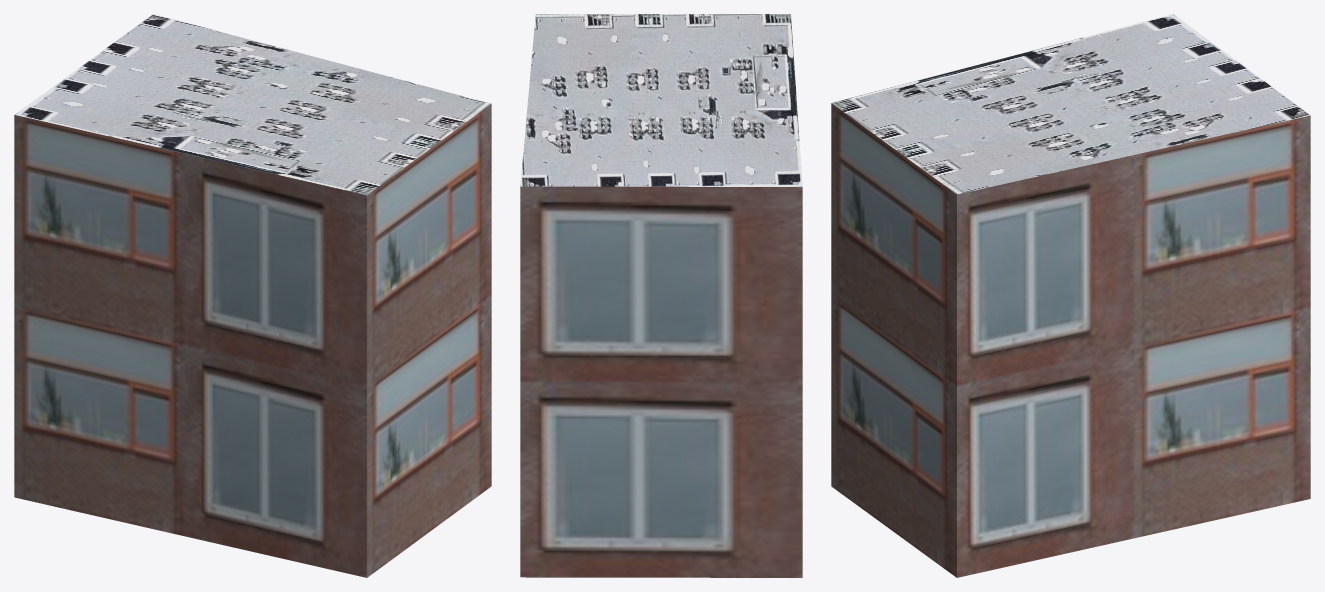
Rendered from ResTex__254.fbx.
The picture shows the model from 3 angles, left to right: view 1: azimuth 30°, elevation 25°; view 2: azimuth 150°, elevation 25°; view 3: azimuth 270°, elevation 25°; orthographic projection. The views are drawn at different scales.
Parts seen in each view (by area): view 1: CityEngineMaterial_19_m, CityEngineMaterial_15_m; view 2: CityEngineMaterial_19_m, CityEngineMaterial_15_m; view 3: CityEngineMaterial_19_m, CityEngineMaterial_15_m.
Part boxes in pixels (left/top/right/bottom): CityEngineMaterial_19_m: left=14, top=104, right=491, bottom=577; CityEngineMaterial_15_m: left=14, top=14, right=491, bottom=195; CityEngineMaterial_19_m: left=520, top=186, right=802, bottom=577; CityEngineMaterial_15_m: left=520, top=14, right=802, bottom=186; CityEngineMaterial_19_m: left=831, top=103, right=1310, bottom=577; CityEngineMaterial_15_m: left=832, top=14, right=1310, bottom=194.
Bounding box in the file's own units: 6.06 × 6 × 6.8.
2 materials, 2 textured.
